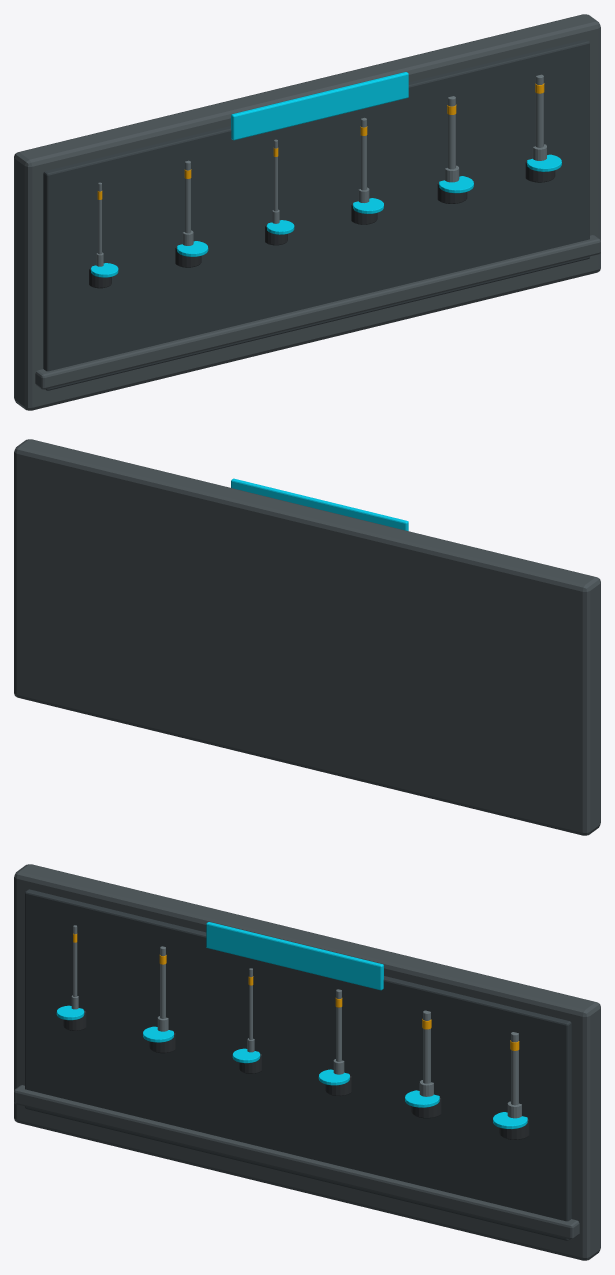
File: toolpath-tool-crib-v1.glb
3 renders of one model, top to bottom at view 1: azimuth 30°, elevation 25°; view 2: azimuth 150°, elevation 25°; view 3: azimuth 330°, elevation 25°, orthographic.
Visible parts, largest first — view 1: toolcrib.cabinet.backplate, toolcrib.cabinet.frame, toolcrib.placard, tool.endmill.crib.06, tool.endmill.crib.05, toolcrib.slot.06, toolcrib.slot.05, toolcrib.slot.02, toolcrib.slot.04, tool.endmill.crib.04, tool.endmill.crib.02, toolcrib.slot.01 (+1 smaller); view 2: toolcrib.cabinet.frame, toolcrib.placard; view 3: toolcrib.cabinet.backplate, toolcrib.cabinet.frame, toolcrib.placard, tool.endmill.crib.06, tool.endmill.crib.05, toolcrib.slot.05, toolcrib.slot.06, toolcrib.slot.04, toolcrib.slot.02, tool.endmill.crib.04, tool.endmill.crib.02, toolcrib.slot.01 (+1 smaller).
Part boxes in pixels (x1,y1,x2,y2): toolcrib.cabinet.backplate: (43, 39, 589, 390); toolcrib.cabinet.frame: (14, 14, 600, 410); toolcrib.placard: (231, 72, 408, 140); tool.endmill.crib.06: (532, 74, 546, 160); tool.endmill.crib.05: (445, 96, 459, 182); toolcrib.slot.06: (525, 154, 561, 182); toolcrib.slot.05: (437, 176, 473, 203); toolcrib.slot.02: (175, 241, 208, 267); toolcrib.slot.04: (351, 198, 383, 224); tool.endmill.crib.04: (358, 117, 369, 202); tool.endmill.crib.02: (182, 160, 193, 245); toolcrib.slot.01: (89, 263, 118, 288); toolcrib.cabinet.frame: (14, 439, 600, 835); toolcrib.placard: (231, 478, 408, 530); toolcrib.cabinet.backplate: (25, 889, 571, 1240); toolcrib.cabinet.frame: (14, 864, 600, 1260); toolcrib.placard: (206, 922, 383, 990); tool.endmill.crib.06: (507, 1032, 521, 1118); tool.endmill.crib.05: (419, 1010, 433, 1096); toolcrib.slot.05: (405, 1090, 441, 1118); toolcrib.slot.06: (493, 1112, 529, 1139); toolcrib.slot.04: (318, 1069, 351, 1096); toolcrib.slot.02: (143, 1026, 175, 1053); tool.endmill.crib.04: (333, 989, 344, 1074); tool.endmill.crib.02: (157, 946, 168, 1031); toolcrib.slot.01: (56, 1005, 86, 1030).
Size of the model in its own units: 720 by 303 by 73.
